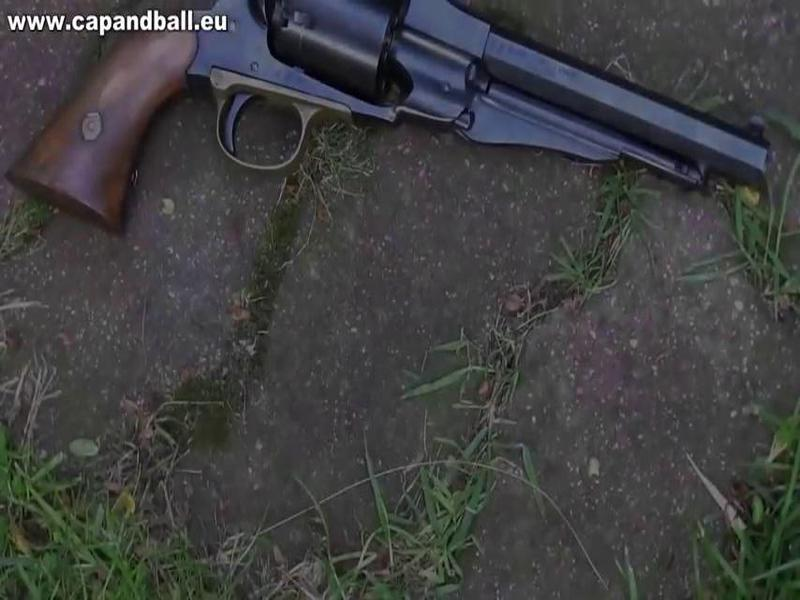Revolver: (10, 1, 737, 228)
